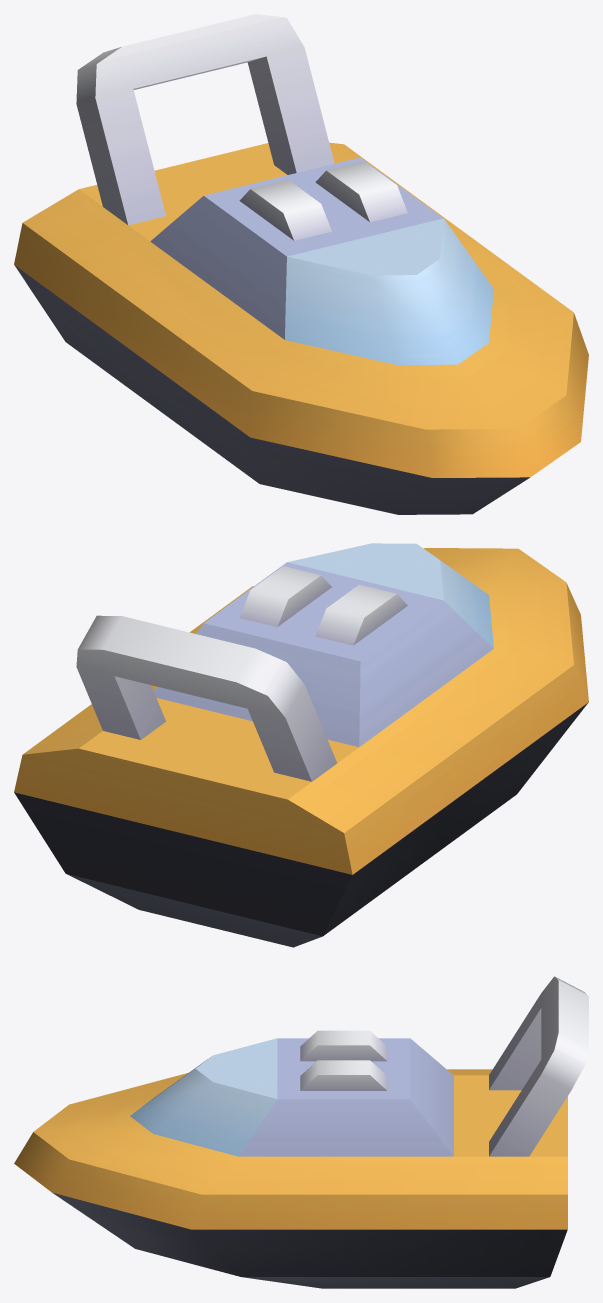
The model's file is boat-speed-b-transformed.glb.
3 renders of one model, top to bottom at view 1: azimuth 30°, elevation 25°; view 2: azimuth 150°, elevation 25°; view 3: azimuth 270°, elevation 25°, orthographic. The views are drawn at different scales.
Visible parts, largest first — view 1: boat-speed-b; view 2: boat-speed-b; view 3: boat-speed-b.
Boxes of the visible parts, x1,y1,x2,y2 form: boat-speed-b: (14,14,588,514); boat-speed-b: (14,543,588,947); boat-speed-b: (14,976,588,1288).
Size of the model in its own units: 1.78 by 1.59 by 3.29.
1 material, 1 textured.
